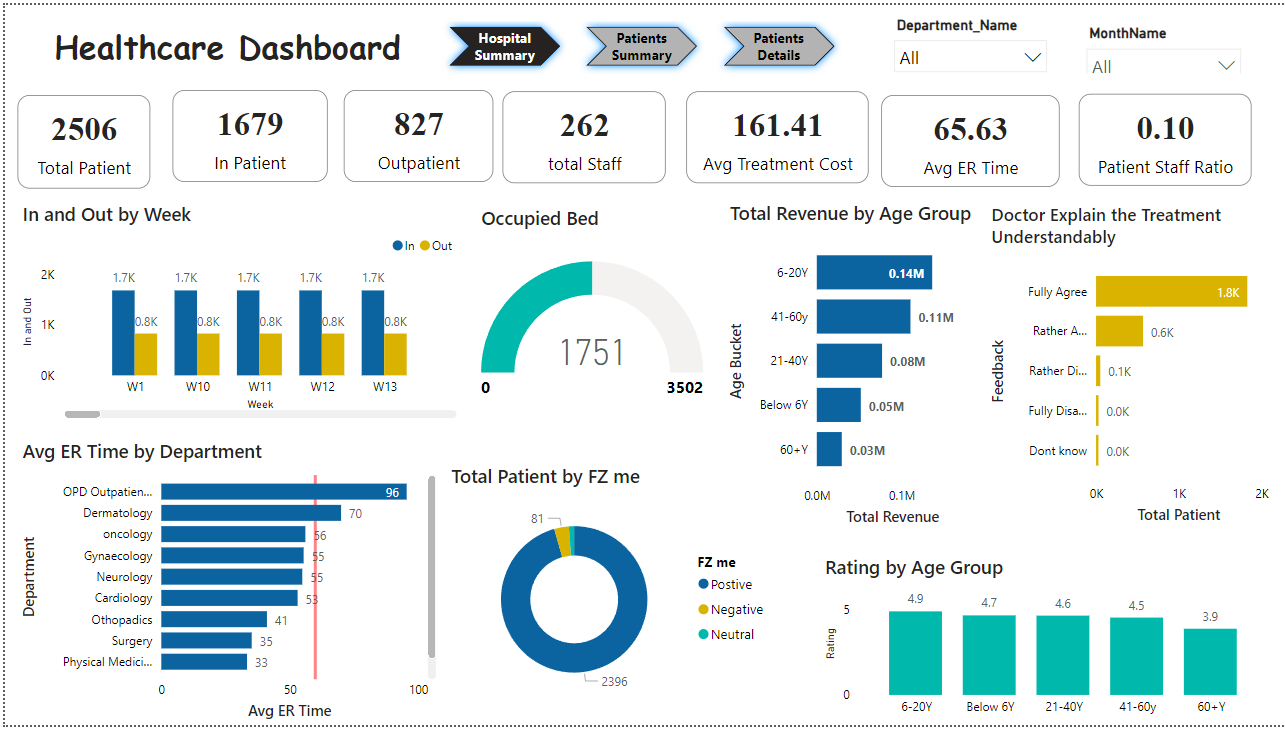

The dashboard page shown, as its layout file describes it:
{"tool":"powerbi","page":{"name":"Hospital Summary ","canvas":[1280,720],"ordinal":0},"visuals":[{"type":"cardVisual","fields":{"Data":["Measure.Total Patient"]},"box":[12.3,90.5,133,93.2],"z":1000},{"type":"textbox","box":[33,13.4,380.2,64.8],"z":2000},{"type":"slicer","fields":{"Values":["Department.Department_Name"]},"box":[878.9,6.1,173.6,69.7],"z":3000},{"type":"slicer","fields":{"Values":["Calendar_date.MonthName"]},"box":[1070.8,14.7,174.8,53.8],"z":4000},{"type":"cardVisual","fields":{"Data":["Measure.In Patient"]},"box":[167.3,85,154.9,91.9],"z":5000},{"type":"cardVisual","fields":{"Data":["Measure.Outpatient"]},"box":[338.6,85,149.4,91.9],"z":6000},{"type":"cardVisual","fields":{"Data":["Bed_Detail.total Staff"]},"box":[497.7,86.4,163.2,91.9],"z":7000},{"type":"cardVisual","fields":{"Data":["Measure.Avg Treatment Cost"]},"box":[681.4,86.4,182.3,91.9],"z":8000},{"type":"cardVisual","fields":{"Data":["Measure.Avg ER Time"]},"box":[876.1,90.5,178.2,91.9],"z":9000},{"type":"cardVisual","fields":{"Data":["Bed_Detail.Patient Staff Ratio"]},"box":[1073.5,89.1,172.8,91.9],"z":10000},{"type":"clusteredColumnChart","fields":{"Y":["Calendar_date.In Patient","Calendar_date.Outpatient"],"Category":["Calendar_date.WeekName"]},"box":[12.3,196.1,444.2,222.1],"z":11000},{"type":"gauge","fields":{"Y":["Divide(Measure.Occupied Bed, ScopedEval(Measure.Occupied Bed, []))"]},"box":[471.9,200.5,232.3,231],"z":12000},{"type":"clusteredBarChart","title":"Total Revenue by Age Group","fields":{"Y":["Measure.Total Revenue"],"Category":["Detail data dataset.Age Bucket"]},"box":[720,195.6,262.8,331.3],"z":13000},{"type":"barChart","fields":{"Y":["Measure.Avg ER Time"],"Category":["Department.Department_Name"]},"box":[12.3,431.9,423.7,287.9],"z":14000},{"type":"barChart","title":"Doctor Explain the Treatment Understandably","fields":{"Y":["Measure.Total Patient"],"Category":["Detail data dataset.Feedback"]},"box":[981.2,197.5,287.5,326.2],"z":15000},{"type":"columnChart","title":"Rating by Age Group","fields":{"Y":["Measure.Rating"],"Category":["Detail data dataset.Age Bucket"]},"box":[814.4,548.4,453.8,171.4],"z":16000},{"type":"donutChart","fields":{"Y":["Measure.Total Patient"],"Category":["Detail data dataset.FZ me"]},"box":[441.3,457.2,331.3,249.4],"z":17000},{"type":"pageNavigator","box":[436.4,13.4,402.2,55],"z":18000}]}

Visuals, with their boxes in screenshot pixels (x1, y1, x2, y2), scaled from the page's 1280x720 canvas onto the 1285x730 screenshot:
cardVisual - Measure.Total Patient: l=12, t=92, r=146, b=186
textbox: l=33, t=14, r=415, b=79
slicer - Department.Department_Name: l=882, t=6, r=1057, b=77
slicer - Calendar_date.MonthName: l=1075, t=15, r=1250, b=69
cardVisual - Measure.In Patient: l=168, t=86, r=323, b=179
cardVisual - Measure.Outpatient: l=340, t=86, r=490, b=179
cardVisual - Bed_Detail.total Staff: l=500, t=88, r=663, b=181
cardVisual - Measure.Avg Treatment Cost: l=684, t=88, r=867, b=181
cardVisual - Measure.Avg ER Time: l=880, t=92, r=1058, b=185
cardVisual - Bed_Detail.Patient Staff Ratio: l=1078, t=90, r=1251, b=184
clusteredColumnChart - Calendar_date.In Patient x Calendar_date.Outpatient: l=12, t=199, r=458, b=424
gauge - Divide(Measure.Occupied Bed, ScopedEval(Measure.Occupied Bed, [])): l=474, t=203, r=707, b=437
"Total Revenue by Age Group" clusteredBarChart: l=723, t=198, r=987, b=534
barChart - Measure.Avg ER Time x Department.Department_Name: l=12, t=438, r=438, b=729
"Doctor Explain the Treatment Understandably" barChart: l=985, t=200, r=1274, b=531
"Rating by Age Group" columnChart: l=818, t=556, r=1273, b=729
donutChart - Measure.Total Patient x Detail data dataset.FZ me: l=443, t=464, r=776, b=716
pageNavigator: l=438, t=14, r=842, b=69
